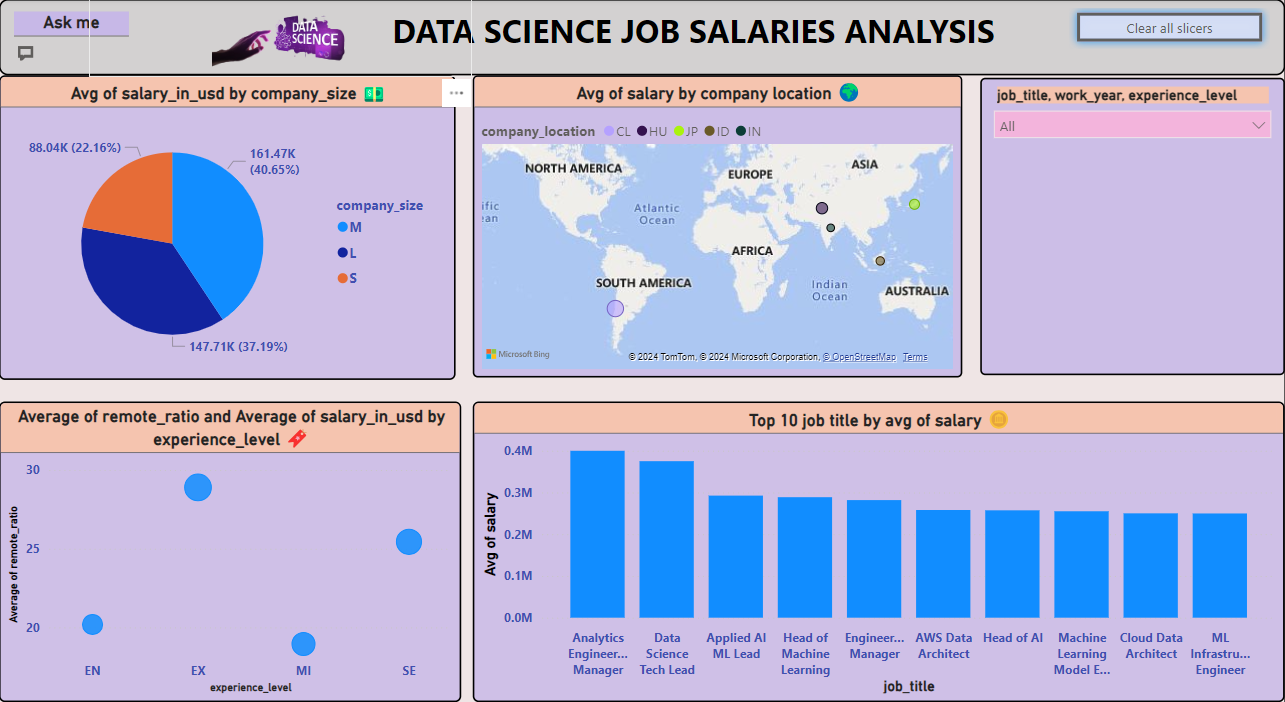

This screenshot's page, from the dashboard's own definition file:
{"tool":"powerbi","page":{"name":"Page 1","canvas":[1280,720],"ordinal":0},"visuals":[{"type":"textbox","box":[0,0,1280,720.3],"z":0},{"type":"textbox","box":[0,0,1280,75.9],"z":1},{"type":"pieChart","title":"Avg of salary_in_usd by company_size 💵","fields":{"Category":["employee_managment_project salaries.company_size"],"Y":["Avg(employee_managment_project salaries.salary_in_usd)"]},"box":[0,75.5,454.2,303.3],"z":2},{"type":"map","title":"Avg of salary by company location 🌍","fields":{"Size":["Avg(employee_managment_project salaries.salary)"],"Category":["employee_managment_project salaries.company_location"],"Series":["employee_managment_project salaries.company_location"]},"box":[472,75.5,487.1,300.5],"z":3},{"type":"scatterChart","title":"Average of remote_ratio and Average of salary_in_usd by experience_level 🔖","fields":{"X":["employee_managment_project salaries.experience_level"],"Y":["Avg(employee_managment_project salaries.remote_ratio)"],"Size":["Avg(employee_managment_project salaries.salary_in_usd)"]},"box":[0,400.7,459.7,299.1],"z":4},{"type":"columnChart","title":"Top 10 job title by avg of salary 🪙","fields":{"Category":["top_10_job_title.job_title"],"Y":["Sum(top_10_job_title.avg_salary)"]},"box":[472,400.7,808.2,299.1],"z":5},{"type":"slicer","fields":{"Values":["employee_managment_project salaries.job_title","employee_managment_project salaries.work_year","employee_managment_project salaries.experience_level"]},"box":[976.3,78.5,303.4,296.3],"z":8},{"type":"actionButton","title":"Ask me","box":[14.9,12.4,114.4,52.2],"z":9},{"type":"image","box":[89.6,0,381.9,78.4],"z":10},{"type":"actionButton","box":[1064.8,0,200.3,49.8],"z":11}]}

Visuals, with their boxes in screenshot pixels (x1, y1, x2, y2), scaled from the page's 1280x720 canvas onto the 1285x702 screenshot:
textbox: Rect(0, 0, 1284, 701)
textbox: Rect(0, 0, 1284, 74)
"Avg of salary_in_usd by company_size 💵" pieChart: Rect(0, 74, 456, 369)
"Avg of salary by company location 🌍" map: Rect(474, 74, 963, 367)
"Average of remote_ratio and Average of salary_in_usd by experience_level 🔖" scatterChart: Rect(0, 391, 461, 682)
"Top 10 job title by avg of salary 🪙" columnChart: Rect(474, 391, 1284, 682)
slicer - employee_managment_project salaries.job_title x employee_managment_project salaries.work_year: Rect(980, 77, 1284, 365)
"Ask me" actionButton: Rect(15, 12, 130, 63)
image: Rect(90, 0, 473, 76)
actionButton: Rect(1069, 0, 1270, 49)
